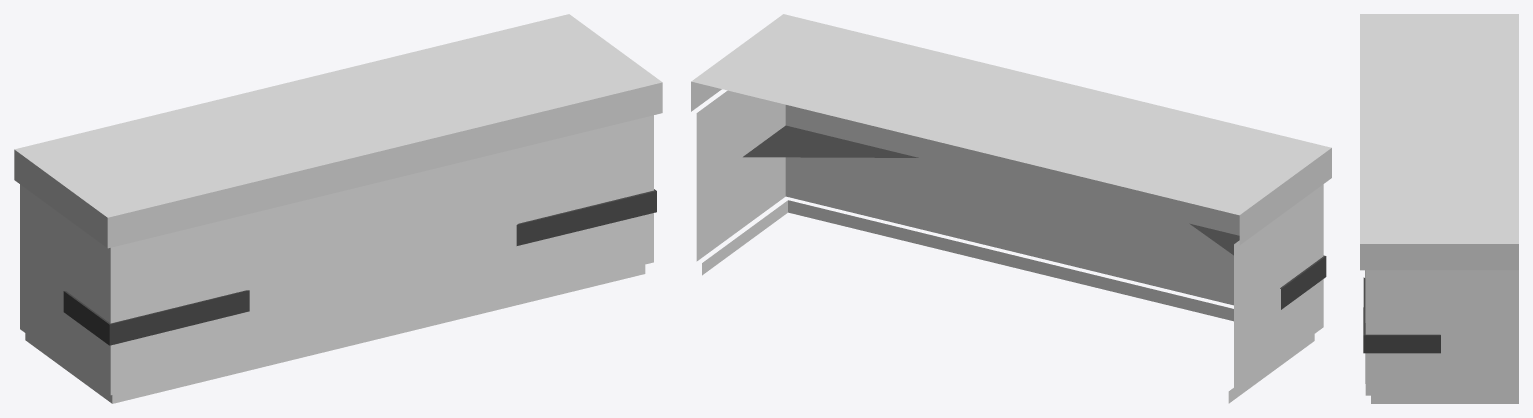
File: table_c.fbx
3 views of the same model, side by side, from view 1: azimuth 30°, elevation 25°; view 2: azimuth 150°, elevation 25°; view 3: azimuth 270°, elevation 25° (orthographic). The views are drawn at different scales.
Visible parts, largest first — view 1: table_c; view 2: table_c; view 3: table_c.
Part boxes in pixels (bbox=[...]): table_c: bbox=[14, 14, 662, 403]; table_c: bbox=[691, 14, 1331, 403]; table_c: bbox=[1360, 14, 1518, 403].
Size of the model in its own units: 3 by 1 by 0.875.
